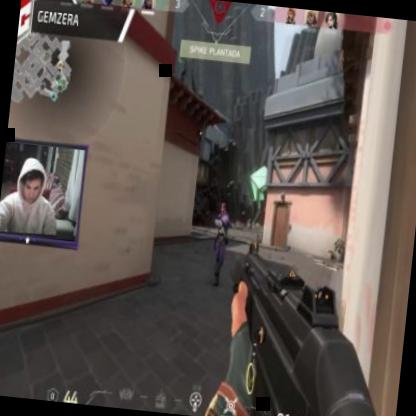enemy: (206, 200, 232, 288)
enemy_head: (219, 202, 226, 216)
